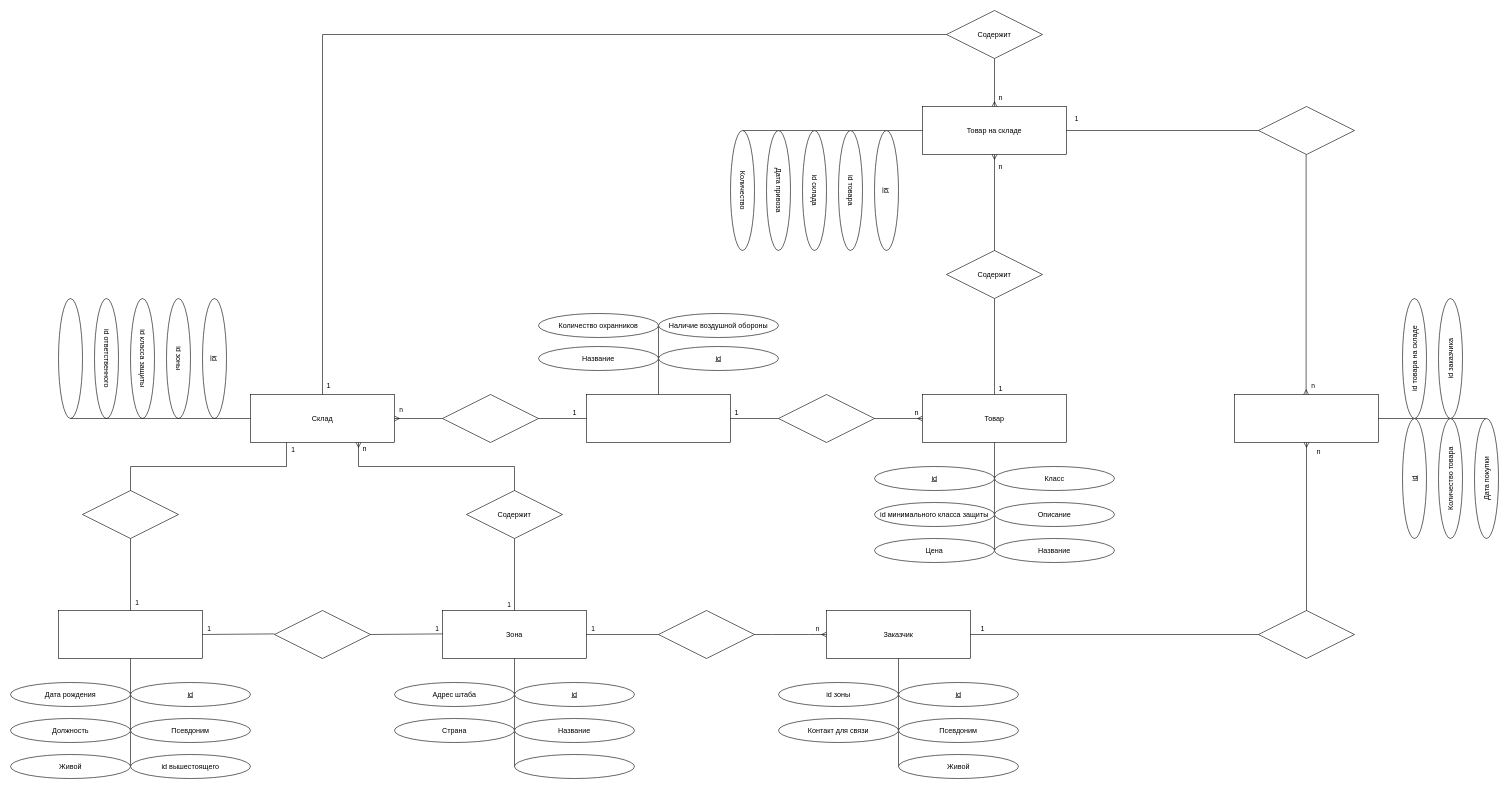
This 1509x789 diagram has some shape labels left out. The centre of each missing label's shape, as x and y in pixels:
id куратора: (574,766)
Адрес: (70,358)
Заведует: (322,634)
Имеет минимальный: (826,418)
Класс защиты: (658,418)
Ответственный: (130,514)
Покупка: (1306,418)
Прикреплен к: (706,634)
Продано: (1306,130)
Совершает: (1306,634)
Сотрудник: (130,634)
Удовлетворяет: (490,418)
